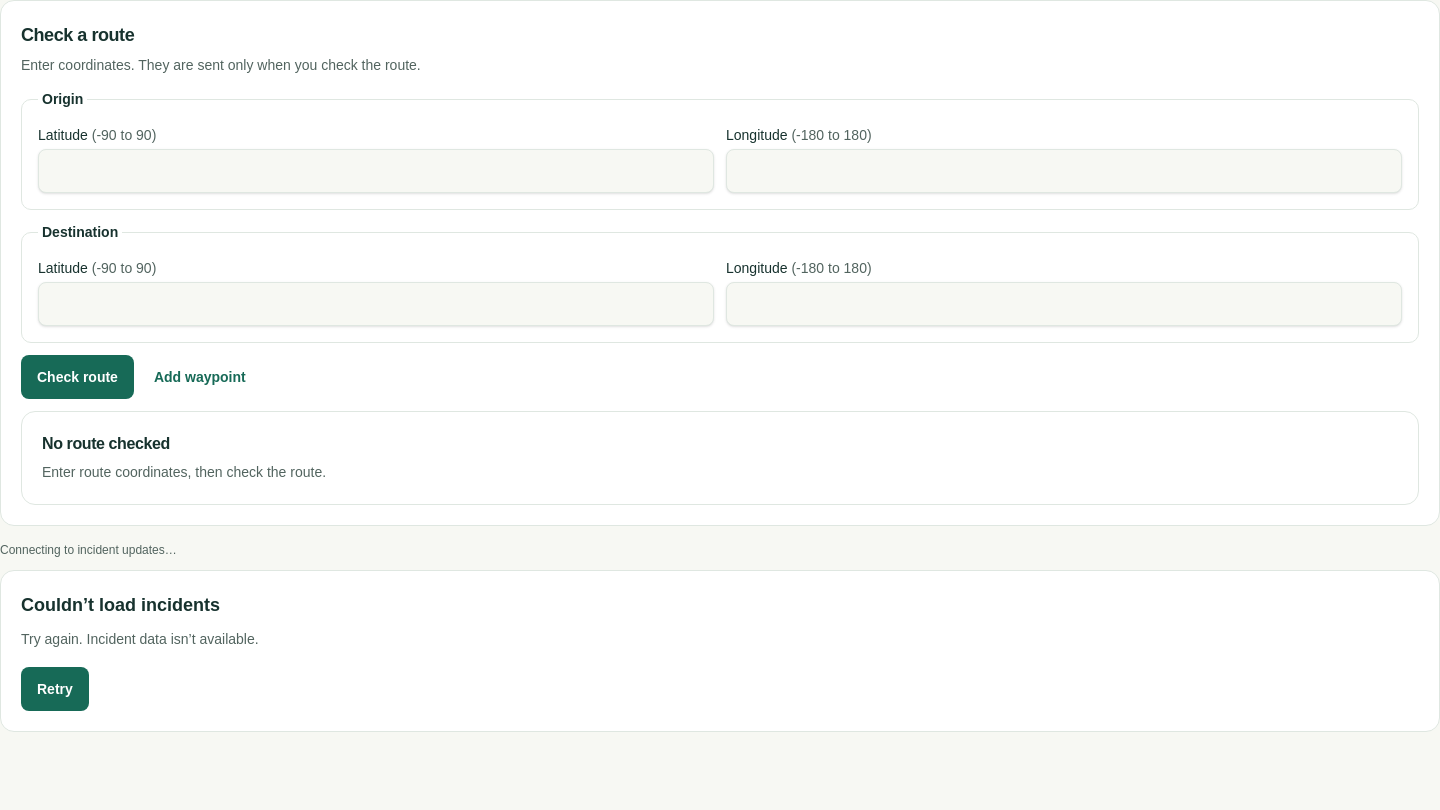
IncidentMapExperience › keeps a successful route visible when public incidents fail and retries only the incident read
The image size is (1440, 810).
Expected: the heading "Couldn’t load incidents" is shown, 21,595 -> 220,615
Step 1. Type "6.5244" into the number field labelled "Latitude (-90 to 90)" below "Origin" → coordinates (376, 171), box 38,149 -> 714,193
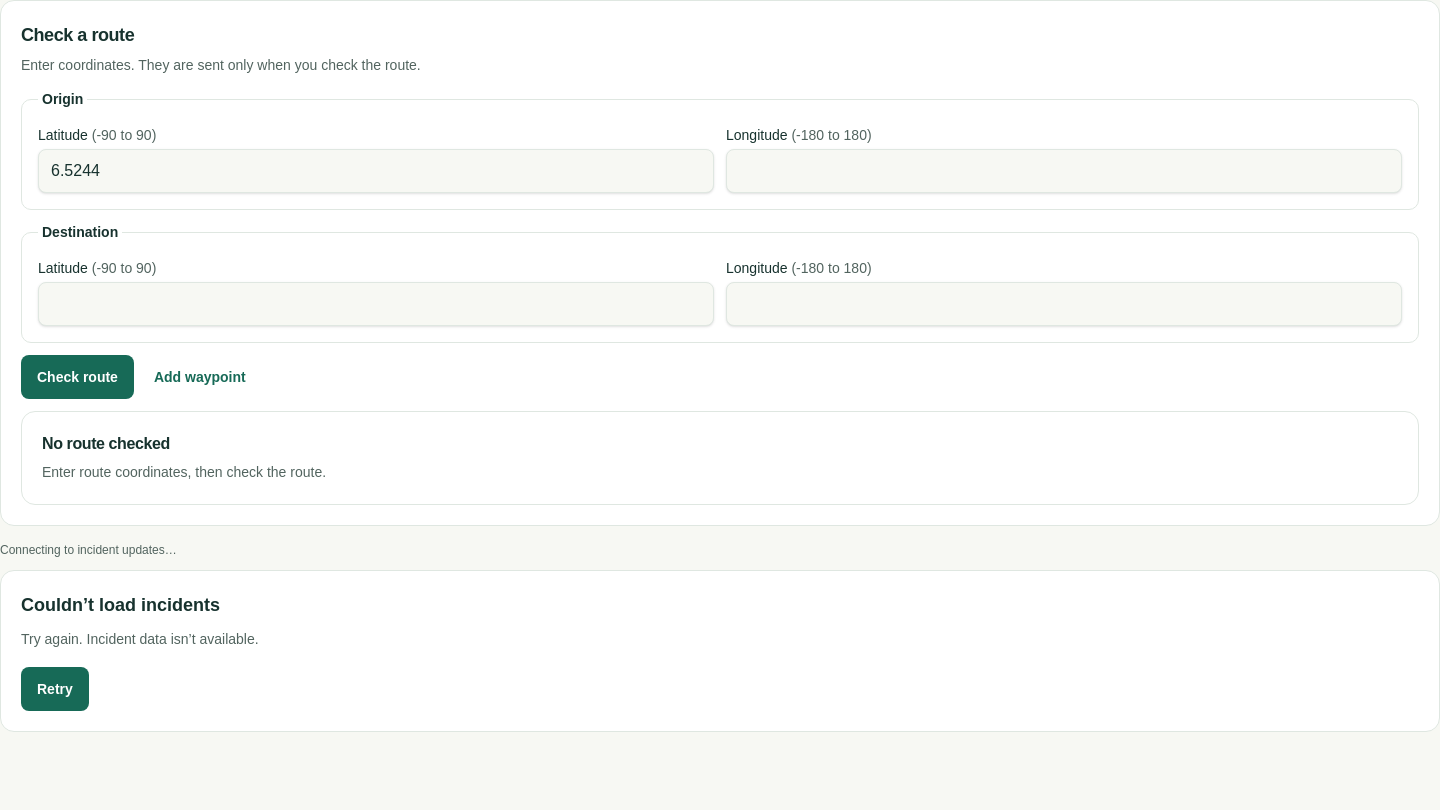
Step 2. Type "3.3792" into the 1st number field labelled "Longitude (-180 to 180)" → coordinates (1064, 171), box 726,149 -> 1402,193
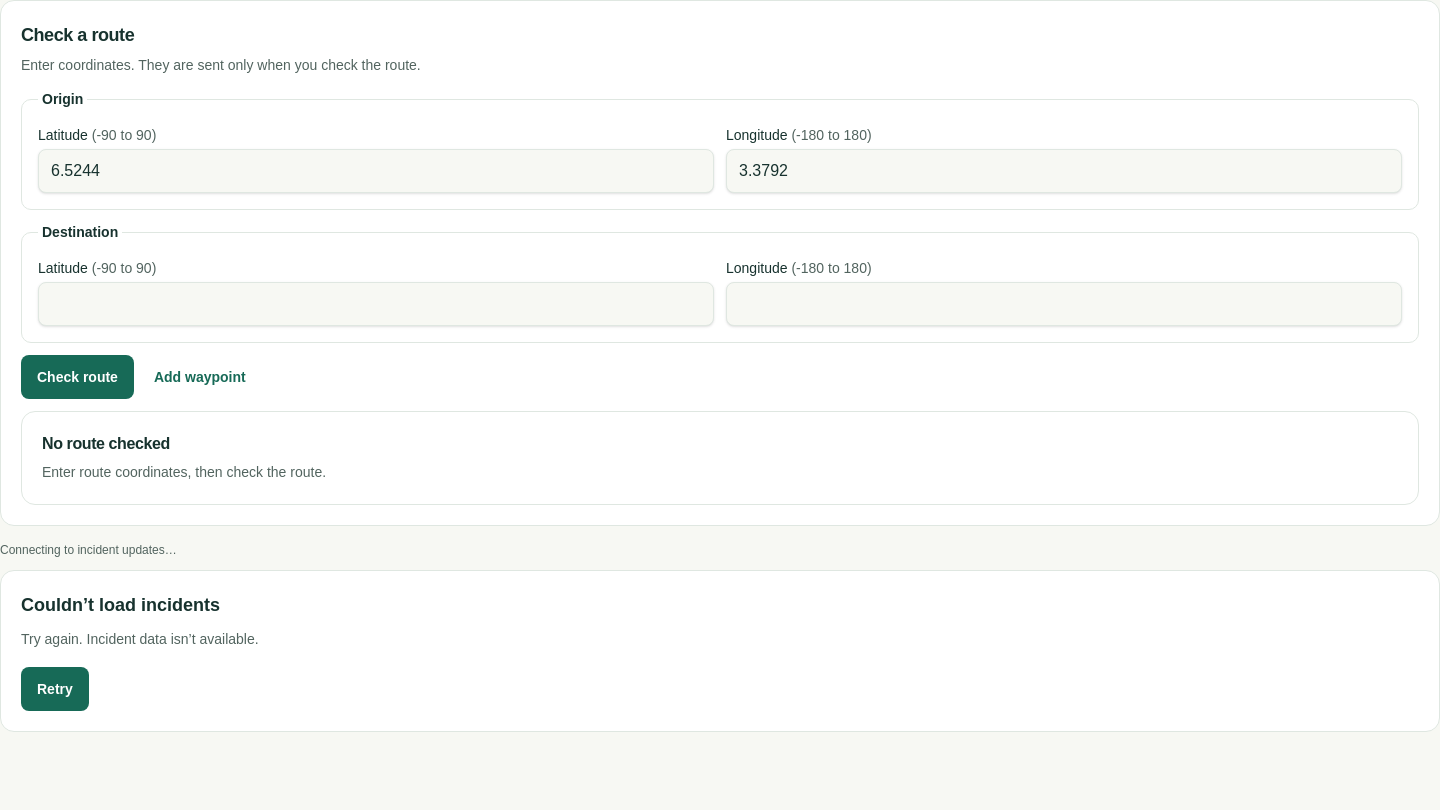
Step 3. Type "6.4541" into the number field labelled "Latitude (-90 to 90)" below "Destination" → coordinates (376, 304), box 38,282 -> 714,326
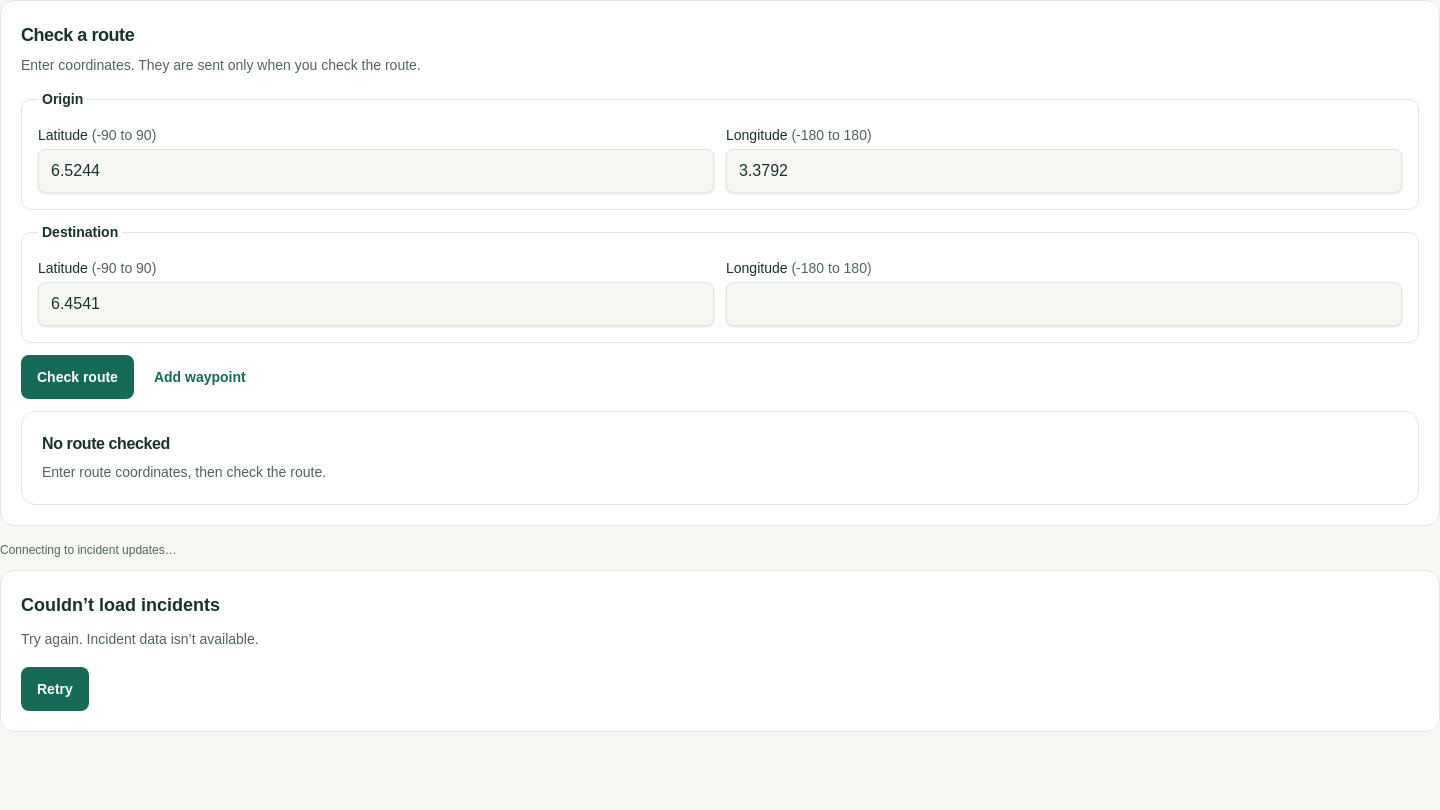
Step 4. Type "3.3947" into the 2nd number field labelled "Longitude (-180 to 180)" → coordinates (1064, 304), box 726,282 -> 1402,326
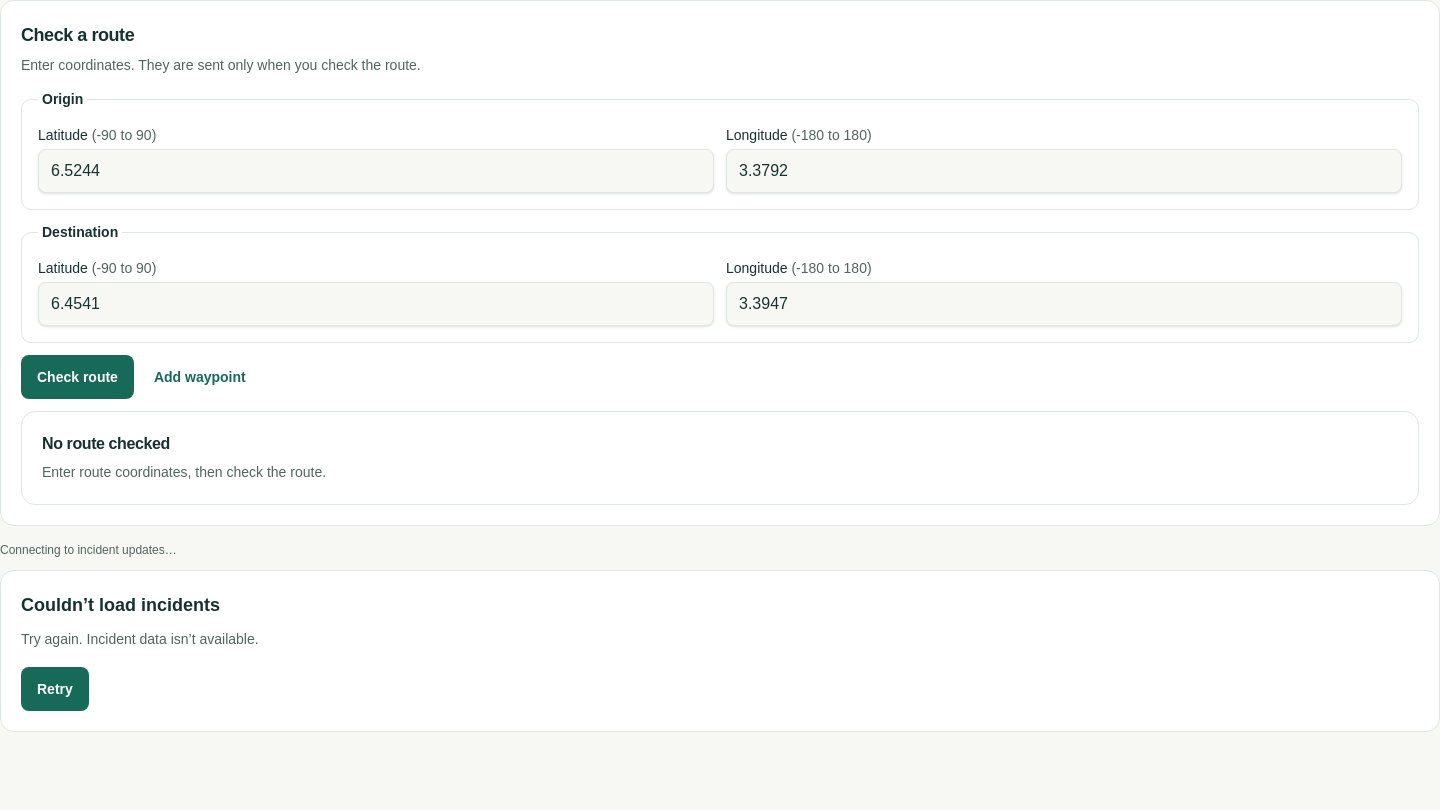
Step 5. Click the button "Check route" → coordinates (77, 377), box 21,355 -> 134,399
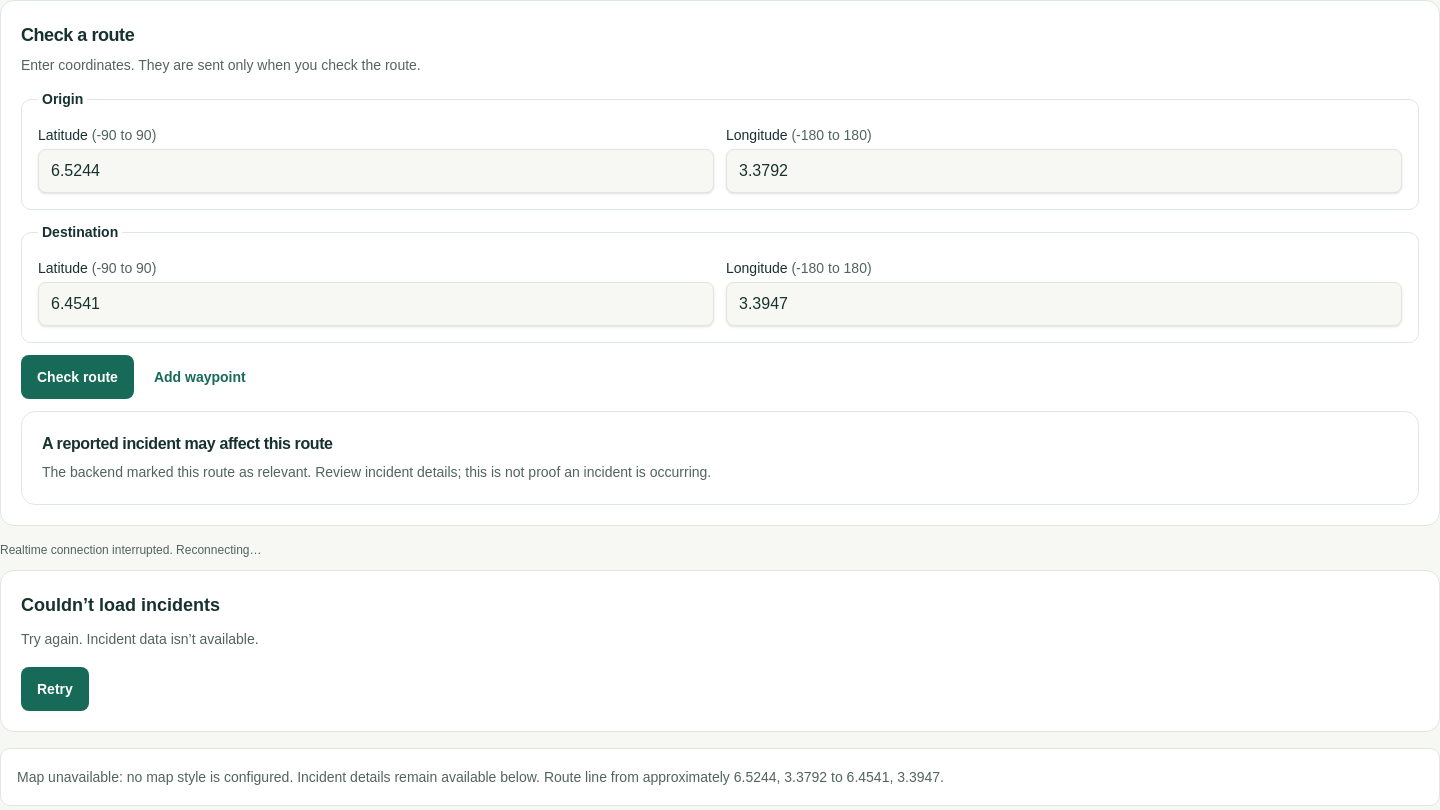
Expected: the heading "A reported incident may affect this route" is shown, 42,435 -> 333,452
Expected: the text "route line from approximately" is shown, 544,769 -> 944,785
Step 6. Click the button "Retry" → coordinates (55, 689), box 21,667 -> 89,711
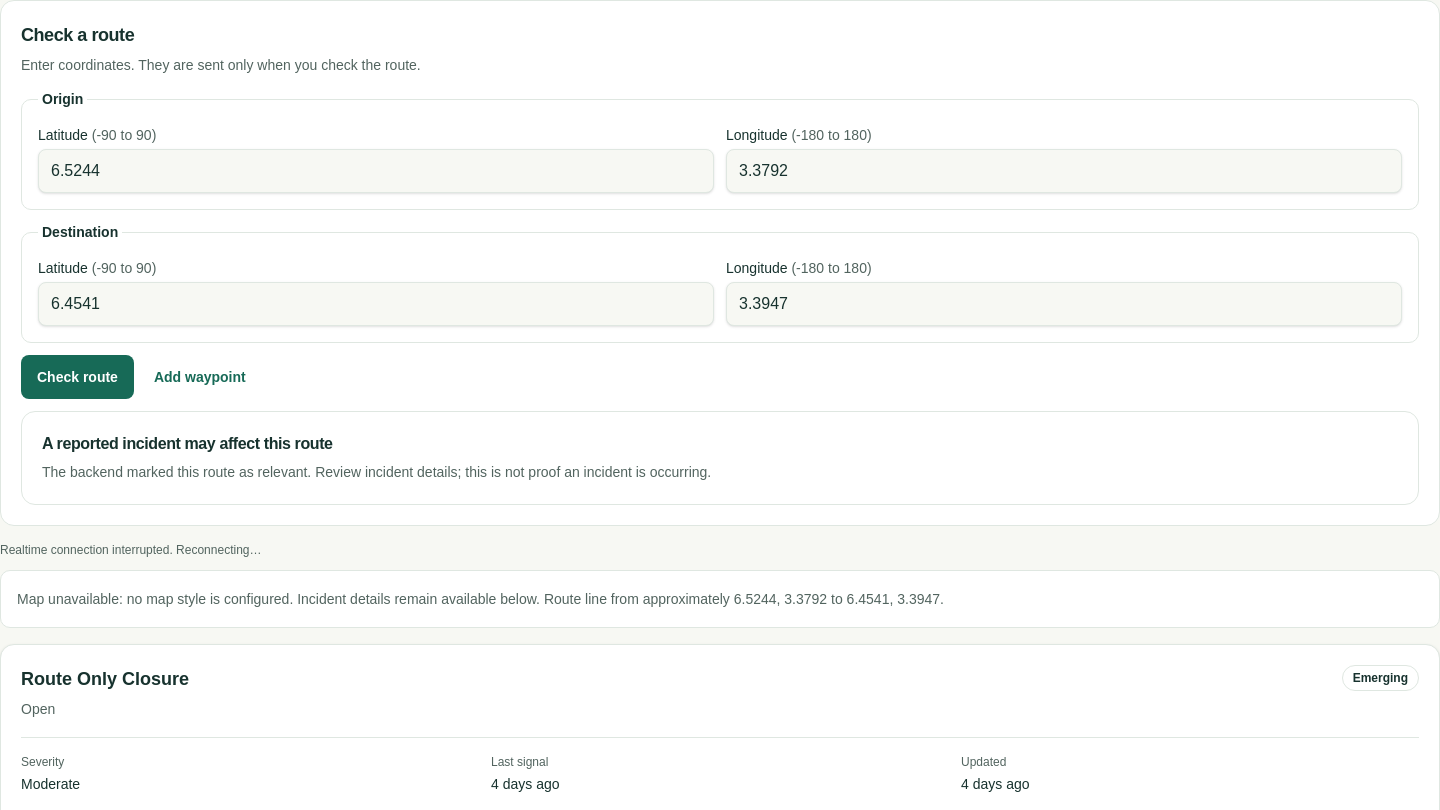
Expected: the heading "Route Only Closure" is shown, 21,665 -> 189,693
Expected: the heading "Couldn’t load incidents" is gone
